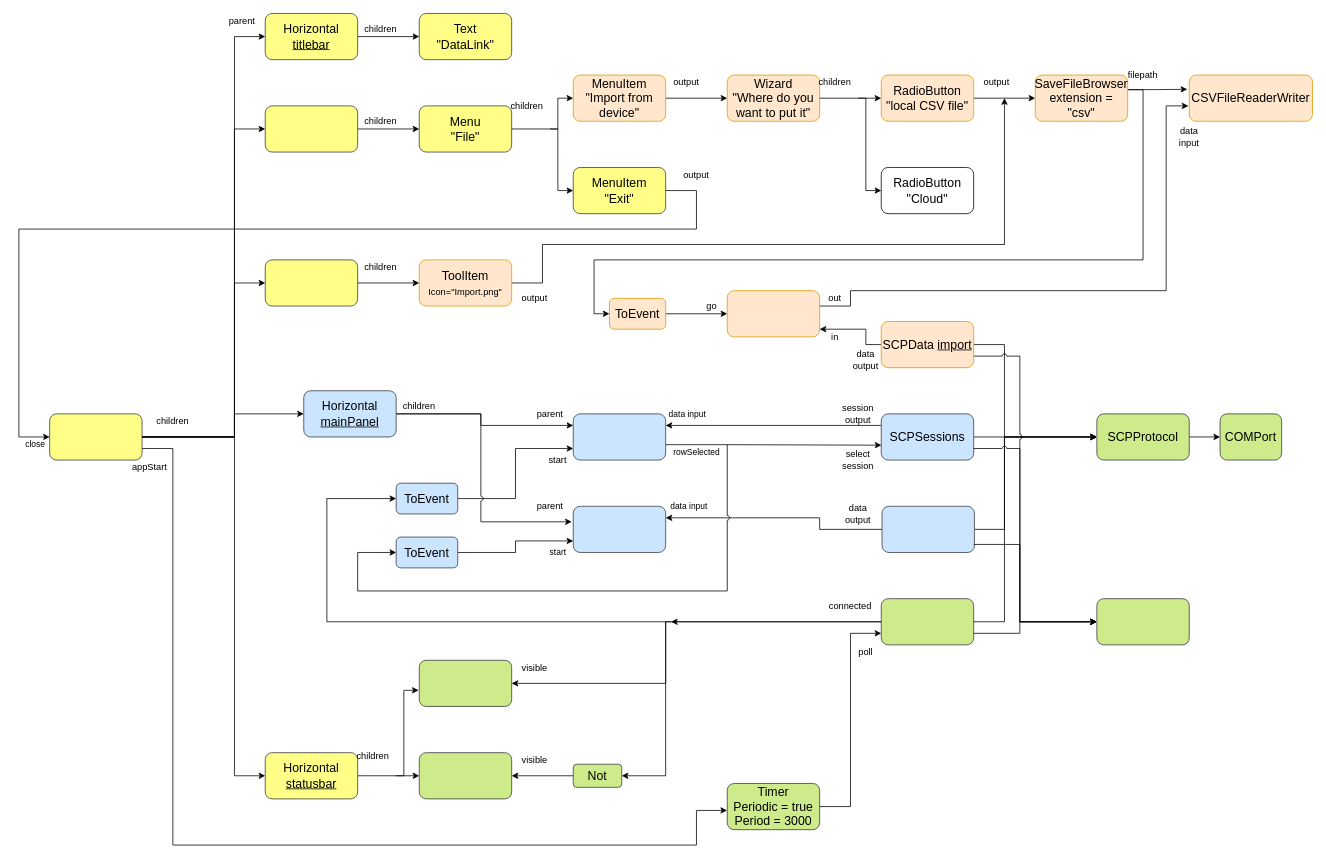
The diagram is 1326 pixels wide and 865 high, and some of its shapes have lost their labels. Here are the shapes that lost their labels. From the top down, the box of each, then its label:
(264, 105, 358, 152): Horizontal menubar
(264, 259, 358, 306): Horizontal toolbar
(726, 290, 820, 337): Transfer
(49, 413, 142, 460): MainWindow
(572, 413, 666, 460): Grid sessions
(572, 506, 666, 552): Grid data
(881, 506, 974, 552): SCPData forGrid
(880, 598, 974, 645): SCPSense
(1096, 598, 1189, 645): Arbitrator
(418, 660, 512, 706): Text "Connected" FontColour = Green
(418, 752, 512, 799): Text "Searching for a device" FontColour = Red
